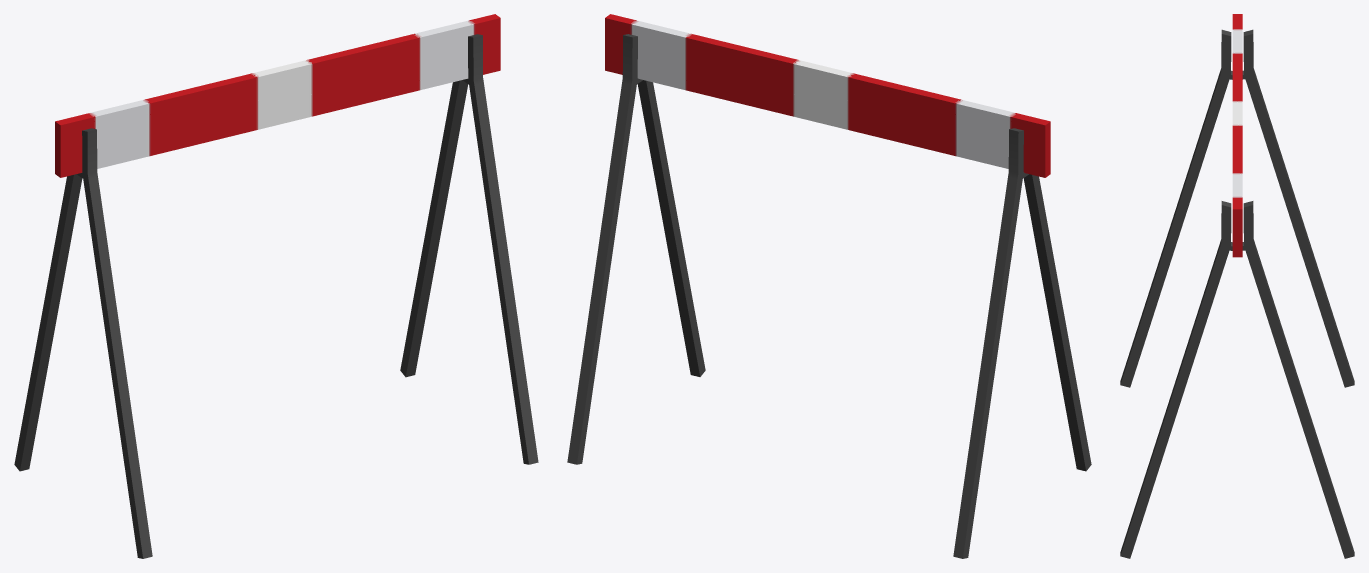
File: block3.glb
3 views of the same model, side by side, from view 1: azimuth 30°, elevation 25°; view 2: azimuth 150°, elevation 25°; view 3: azimuth 270°, elevation 25° (orthographic). The views are drawn at different scales.
Visible parts, largest first — view 1: Line007_Material #64_0; view 2: Line007_Material #64_0; view 3: Line007_Material #64_0.
Boxes of the visible parts, x1,y1,x2,y2 form: Line007_Material #64_0: (14,14,538,558); Line007_Material #64_0: (567,14,1091,558); Line007_Material #64_0: (1120,14,1354,558).
Bounding box in the file's own units: 0.9416 × 0.8101 × 0.4772.
2 materials, 1 textured.
